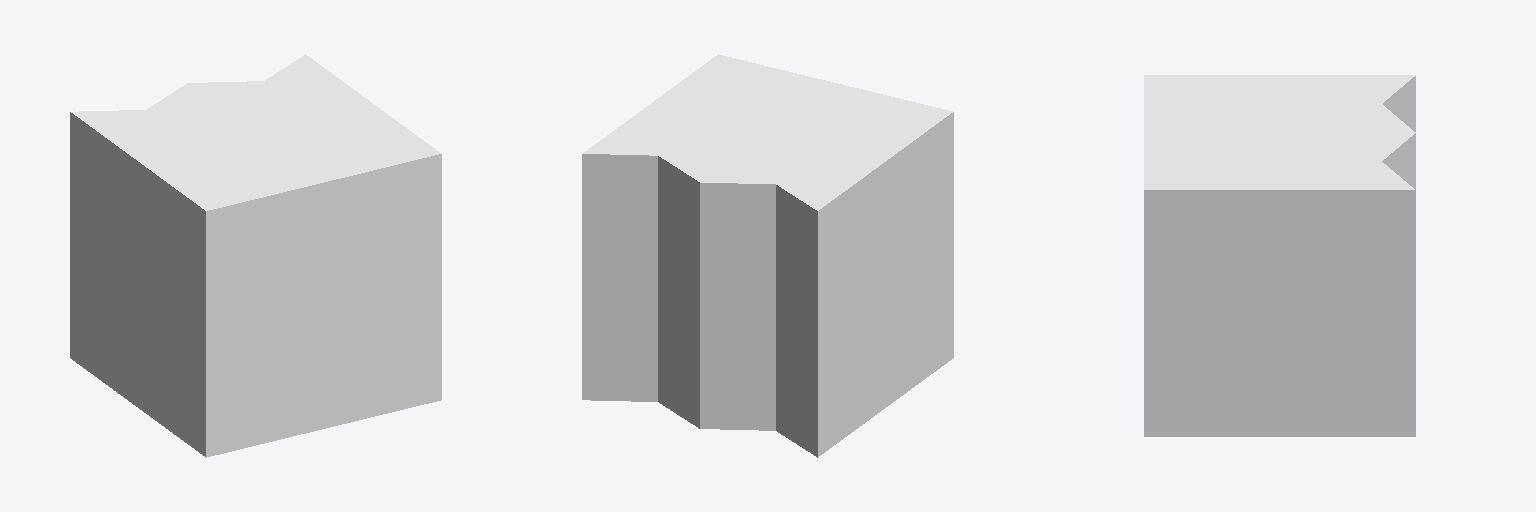
The model's file is cliff-side.obj.
3 views of the same model, side by side, from view 1: azimuth 30°, elevation 25°; view 2: azimuth 150°, elevation 25°; view 3: azimuth 270°, elevation 25° (orthographic).
Visible parts, largest first — view 1: cliff-side; view 2: cliff-side; view 3: cliff-side.
Part boxes in pixels (left/top/right/bottom): cliff-side: left=70, top=54, right=441, bottom=457; cliff-side: left=582, top=54, right=953, bottom=457; cliff-side: left=1144, top=75, right=1415, bottom=436.
Size of the model in its own units: 1 by 1 by 1.